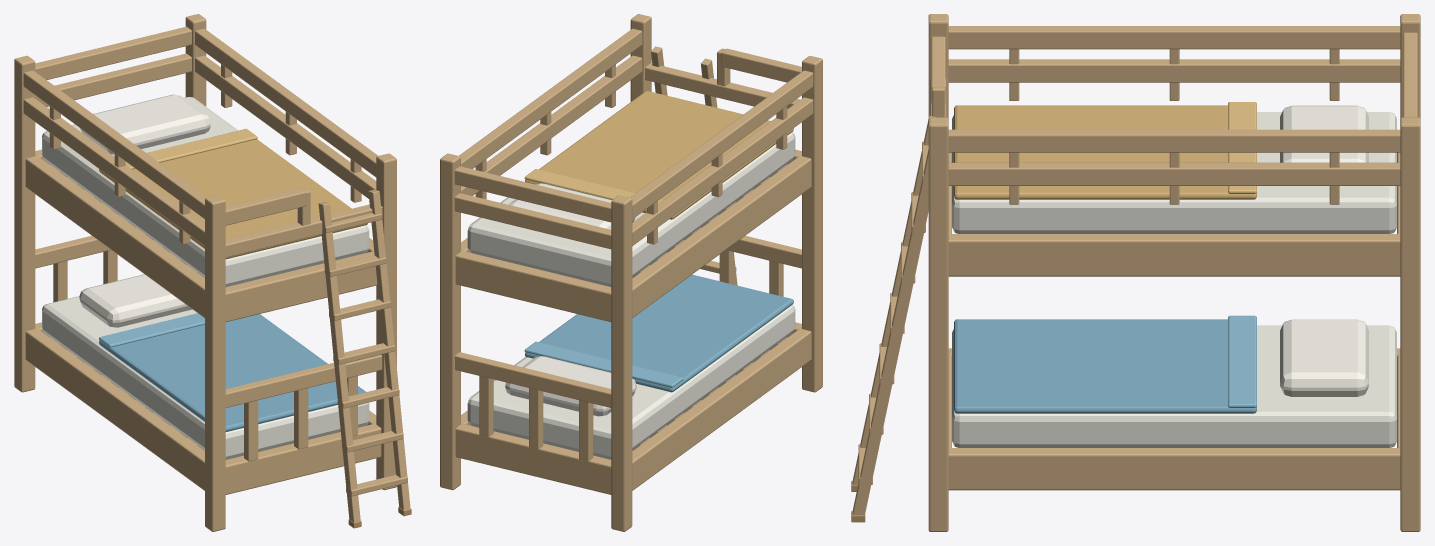
File: bed_bunk.glb
3 views of the same model, side by side, from view 1: azimuth 30°, elevation 25°; view 2: azimuth 150°, elevation 25°; view 3: azimuth 270°, elevation 25° (orthographic). The views are drawn at different scales.
Visible parts, largest first — view 1: Lower bunk folded top blanket, Upper bunk rounded mattress, Lower bunk rounded mattress, Upper bunk folded top blanket, Lower bunk side frame rail, Upper bunk side frame rail, Bunk bed full height corner post, Bunk bed full height corner post.001, Lower bunk end frame rail, Upper bunk end frame rail, Bunk bed upper long guardrail.003, Bunk bed upper long guardrail.001 (+27 smaller); view 2: Lower bunk folded top blanket, Upper bunk folded top blanket, Upper bunk rounded mattress, Lower bunk rounded mattress, Bunk bed full height corner post.001, Lower bunk side frame rail, Upper bunk side frame rail, Bunk bed full height corner post.003, Bunk bed full height corner post, Upper bunk end frame rail.001, Lower bunk end frame rail.001, Bunk bed upper long guardrail.001 (+19 smaller); view 3: Lower bunk folded top blanket, Lower bunk rounded mattress, Upper bunk side frame rail.001, Lower bunk side frame rail.001, Upper bunk rounded mattress, Upper bunk folded top blanket, Bunk bed upper long guardrail.001, Bunk bed upper long guardrail.003, Bunk bed upper long guardrail, Bunk bed upper long guardrail.002, Bunk bed full height corner post.002, Bunk bed full height corner post.003 (+10 smaller).
Boxes of the visible parts, x1,y1,x2,y2 form: Lower bunk folded top blanket: (99,314,365,431); Upper bunk rounded mattress: (42,97,369,286); Lower bunk rounded mattress: (42,296,369,459); Upper bunk folded top blanket: (99,139,367,259); Lower bunk side frame rail: (25,327,204,490); Upper bunk side frame rail: (26,156,204,317); Bunk bed full height corner post: (205,195,225,531); Bunk bed full height corner post.001: (14,55,35,392); Lower bunk end frame rail: (225,424,381,494); Upper bunk end frame rail: (225,251,377,322); Bunk bed upper long guardrail.003: (195,28,377,177); Bunk bed upper long guardrail.001: (23,70,206,218); Lower bunk folded top blanket: (525,274,793,392); Upper bunk folded top blanket: (525,91,793,219); Upper bunk rounded mattress: (467,132,795,286); Lower bunk rounded mattress: (467,305,795,459); Bunk bed full height corner post.001: (611,195,632,531); Lower bunk side frame rail: (632,327,810,490); Upper bunk side frame rail: (632,155,810,317); Bunk bed full height corner post.003: (440,153,460,490); Bunk bed full height corner post: (802,55,822,392); Upper bunk end frame rail.001: (455,251,611,321); Lower bunk end frame rail.001: (455,424,611,494); Bunk bed upper long guardrail.001: (630,70,813,218); Lower bunk folded top blanket: (954,319,1256,413); Lower bunk rounded mattress: (952,325,1396,447); Upper bunk side frame rail.001: (948,234,1400,276); Lower bunk side frame rail.001: (948,448,1400,490); Upper bunk rounded mattress: (952,112,1396,233); Upper bunk folded top blanket: (954,105,1256,199); Bunk bed upper long guardrail.001: (948,26,1400,49); Bunk bed upper long guardrail.003: (948,129,1400,152); Bunk bed upper long guardrail: (948,59,1400,82); Bunk bed upper long guardrail.002: (948,162,1400,185); Bunk bed full height corner post.002: (928,117,948,531); Bunk bed full height corner post.003: (1400,117,1420,531).
Size of the model in its own units: 1.19 by 2.02 by 2.56.
